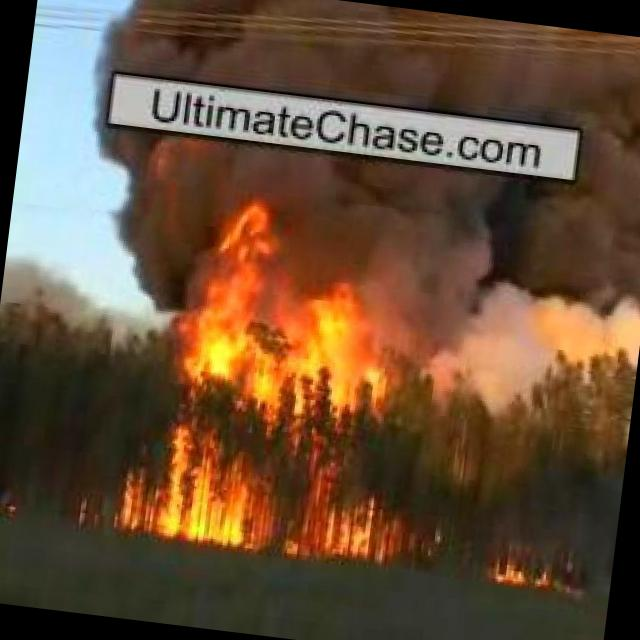Fire: (97, 400, 454, 566), (188, 192, 428, 424), (484, 543, 572, 592)
Smoke: (0, 115, 640, 402), (116, 0, 640, 133)
